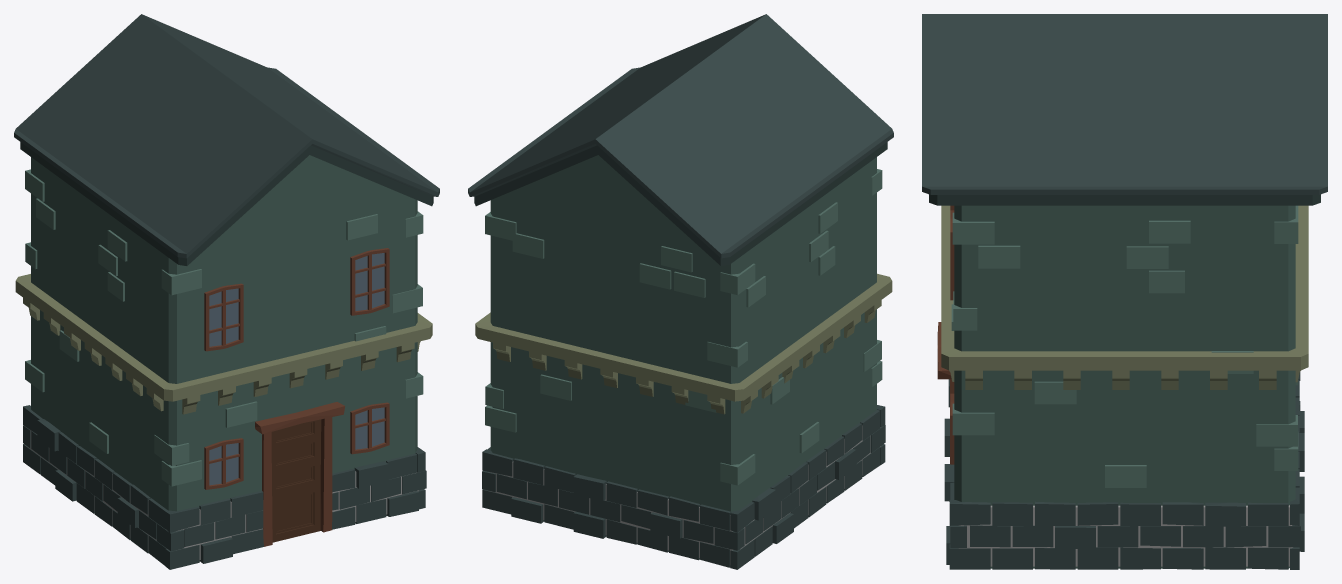
Rendered from 2Story_GableRoof.glb.
3 views of the same model, side by side, from view 1: azimuth 30°, elevation 25°; view 2: azimuth 150°, elevation 25°; view 3: azimuth 270°, elevation 25° (orthographic). The views are drawn at different scales.
Parts seen in each view (by area): view 1: 2Story_GableRoof_Mat; view 2: 2Story_GableRoof_Mat; view 3: 2Story_GableRoof_Mat.
Boxes of the visible parts, x1,y1,x2,y2 form: 2Story_GableRoof_Mat: [14, 14, 439, 569]; 2Story_GableRoof_Mat: [468, 14, 893, 569]; 2Story_GableRoof_Mat: [922, 14, 1327, 569].
Bounding box in the file's own units: 2.16 × 3.13 × 2.38.
